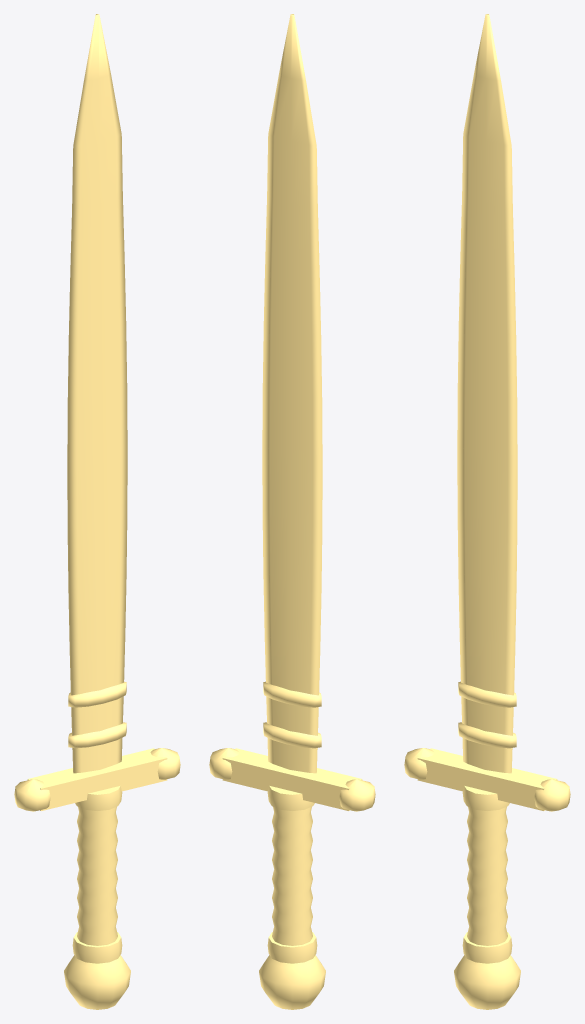
Rendered from preah-khan.glb.
3 views of the same model, side by side, from view 1: azimuth 30°, elevation 25°; view 2: azimuth 150°, elevation 25°; view 3: azimuth 330°, elevation 25° (orthographic).
Parts seen in each view (by area): view 1: W-preah-khan; view 2: W-preah-khan; view 3: W-preah-khan.
Part boxes in pixels (left/top/right/bottom): W-preah-khan: left=14, top=14, right=180, bottom=1009; W-preah-khan: left=209, top=14, right=375, bottom=1009; W-preah-khan: left=404, top=14, right=570, bottom=1009.
Bounding box in the file's own units: 0.166 × 0.975 × 0.06.
